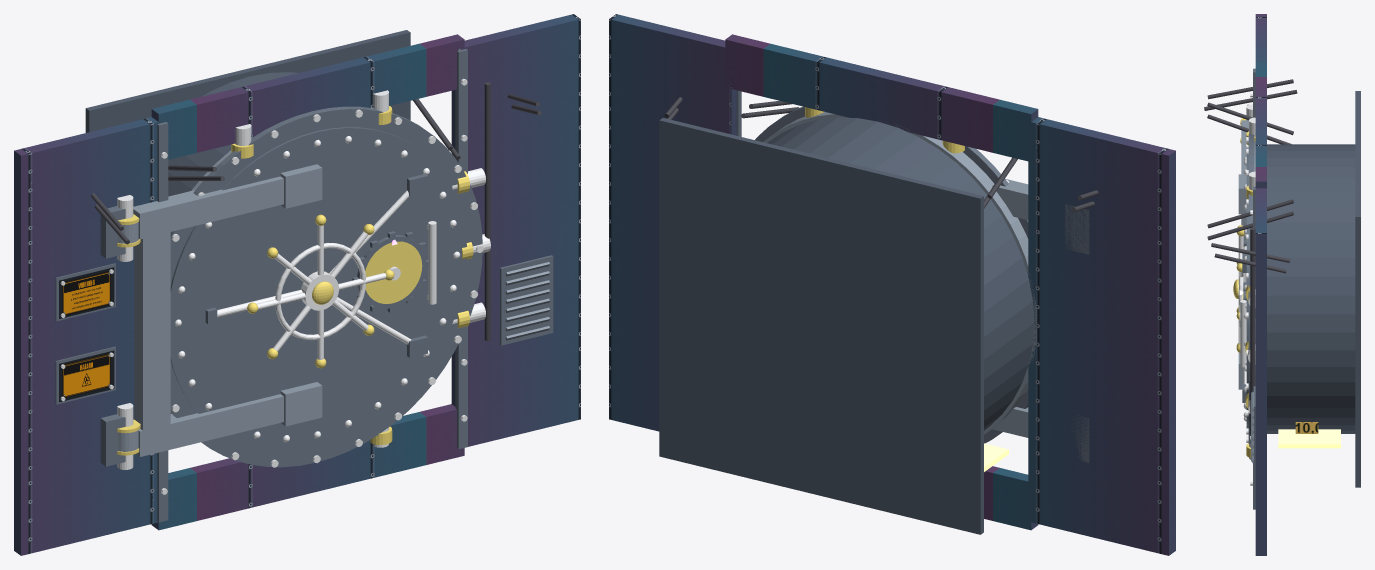
The model's file is lobby_vault.glb.
The picture shows the model from 3 angles, left to right: view 1: azimuth 30°, elevation 25°; view 2: azimuth 150°, elevation 25°; view 3: azimuth 270°, elevation 25°; orthographic projection. The views are drawn at different scales.
Visible parts, largest first — view 1: VaultDoorOuterFlange, WallBulkheadLeft, WallBulkheadRight, WallBulkheadTop, DoorFrameFlange, WallBulkheadBottom, HingeSpineVertical, ChamberBackWall, HingeArmUpper, HingeArmLower, LouverFrame, SeamPlateRight (+14 smaller); view 2: ChamberBackWall, WallBulkheadLeft, WallBulkheadRight, WallBulkheadTop, ChamberLining, DoorFrameCollar, WallBulkheadBottom, DoorFrameFlange, WallHingeBracket_0, HingeArmUpper, HingeArmLower; view 3: ChamberLining, WallBulkheadRight, ChamberBackWall, WallBulkheadTop, GoldPedestalGlow, VerticalConduitPipeRight, DoorFrameFlange, WallBulkheadLeft, VaultDoorOuterFlange, GrabBar, CableRight2_Seg_0, CableLeft2_Seg_0 (+11 smaller).
Part boxes in pixels (bbox=[...]): VaultDoorOuterFlange: bbox=[170, 127, 466, 449]; WallBulkheadLeft: bbox=[14, 117, 161, 555]; WallBulkheadRight: bbox=[451, 14, 580, 446]; WallBulkheadTop: bbox=[151, 34, 464, 159]; DoorFrameFlange: bbox=[170, 106, 482, 467]; WallBulkheadBottom: bbox=[151, 404, 464, 530]; HingeSpineVertical: bbox=[134, 215, 170, 447]; ChamberBackWall: bbox=[85, 30, 410, 132]; HingeArmUpper: bbox=[133, 176, 283, 239]; HingeArmLower: bbox=[136, 394, 283, 456]; LouverFrame: bbox=[500, 255, 553, 345]; SeamPlateRight: bbox=[455, 49, 467, 448]; ChamberBackWall: bbox=[659, 118, 983, 534]; WallBulkheadLeft: bbox=[1028, 117, 1175, 555]; WallBulkheadRight: bbox=[609, 14, 736, 431]; WallBulkheadTop: bbox=[725, 34, 1038, 161]; ChamberLining: bbox=[767, 117, 1034, 430]; DoorFrameCollar: bbox=[763, 112, 1036, 434]; WallBulkheadBottom: bbox=[984, 466, 1038, 530]; DoorFrameFlange: bbox=[755, 106, 1028, 443]; WallHingeBracket_0: bbox=[1065, 204, 1089, 254]; HingeArmUpper: bbox=[992, 179, 1028, 219]; HingeArmLower: bbox=[992, 407, 1028, 437]; ChamberLining: bbox=[1267, 144, 1355, 433]; WallBulkheadRight: bbox=[1255, 188, 1266, 555]; ChamberBackWall: bbox=[1355, 91, 1360, 487]; WallBulkheadTop: bbox=[1255, 61, 1266, 188]; GoldPedestalGlow: bbox=[1278, 429, 1340, 448]; VerticalConduitPipeRight: bbox=[1250, 227, 1255, 435]; DoorFrameFlange: bbox=[1248, 134, 1254, 443]; WallBulkheadLeft: bbox=[1255, 14, 1266, 61]; VaultDoorOuterFlange: bbox=[1246, 155, 1248, 428]; GrabBar: bbox=[1240, 300, 1246, 367]; CableRight2_Seg_0: bbox=[1207, 211, 1293, 240]; CableLeft2_Seg_0: bbox=[1204, 90, 1297, 110].
Bounding box in the file's own units: 3.66 × 2.6 × 1.1.
14 materials, 6 textured.
